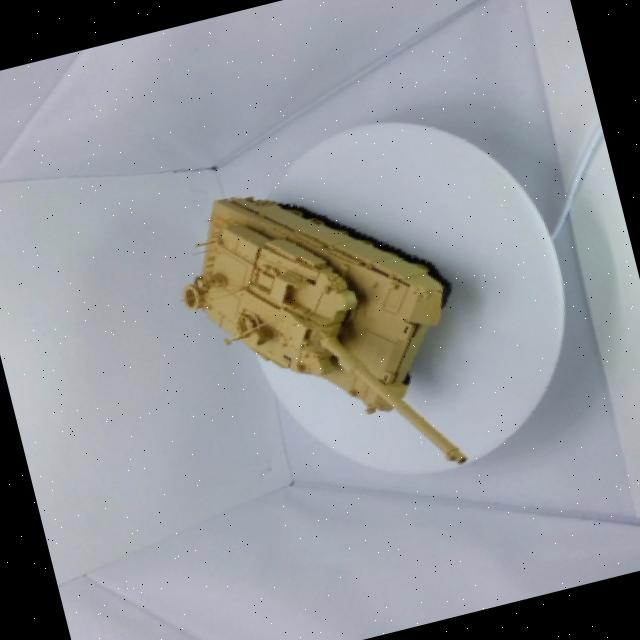korea tank: (135, 121, 524, 553)
